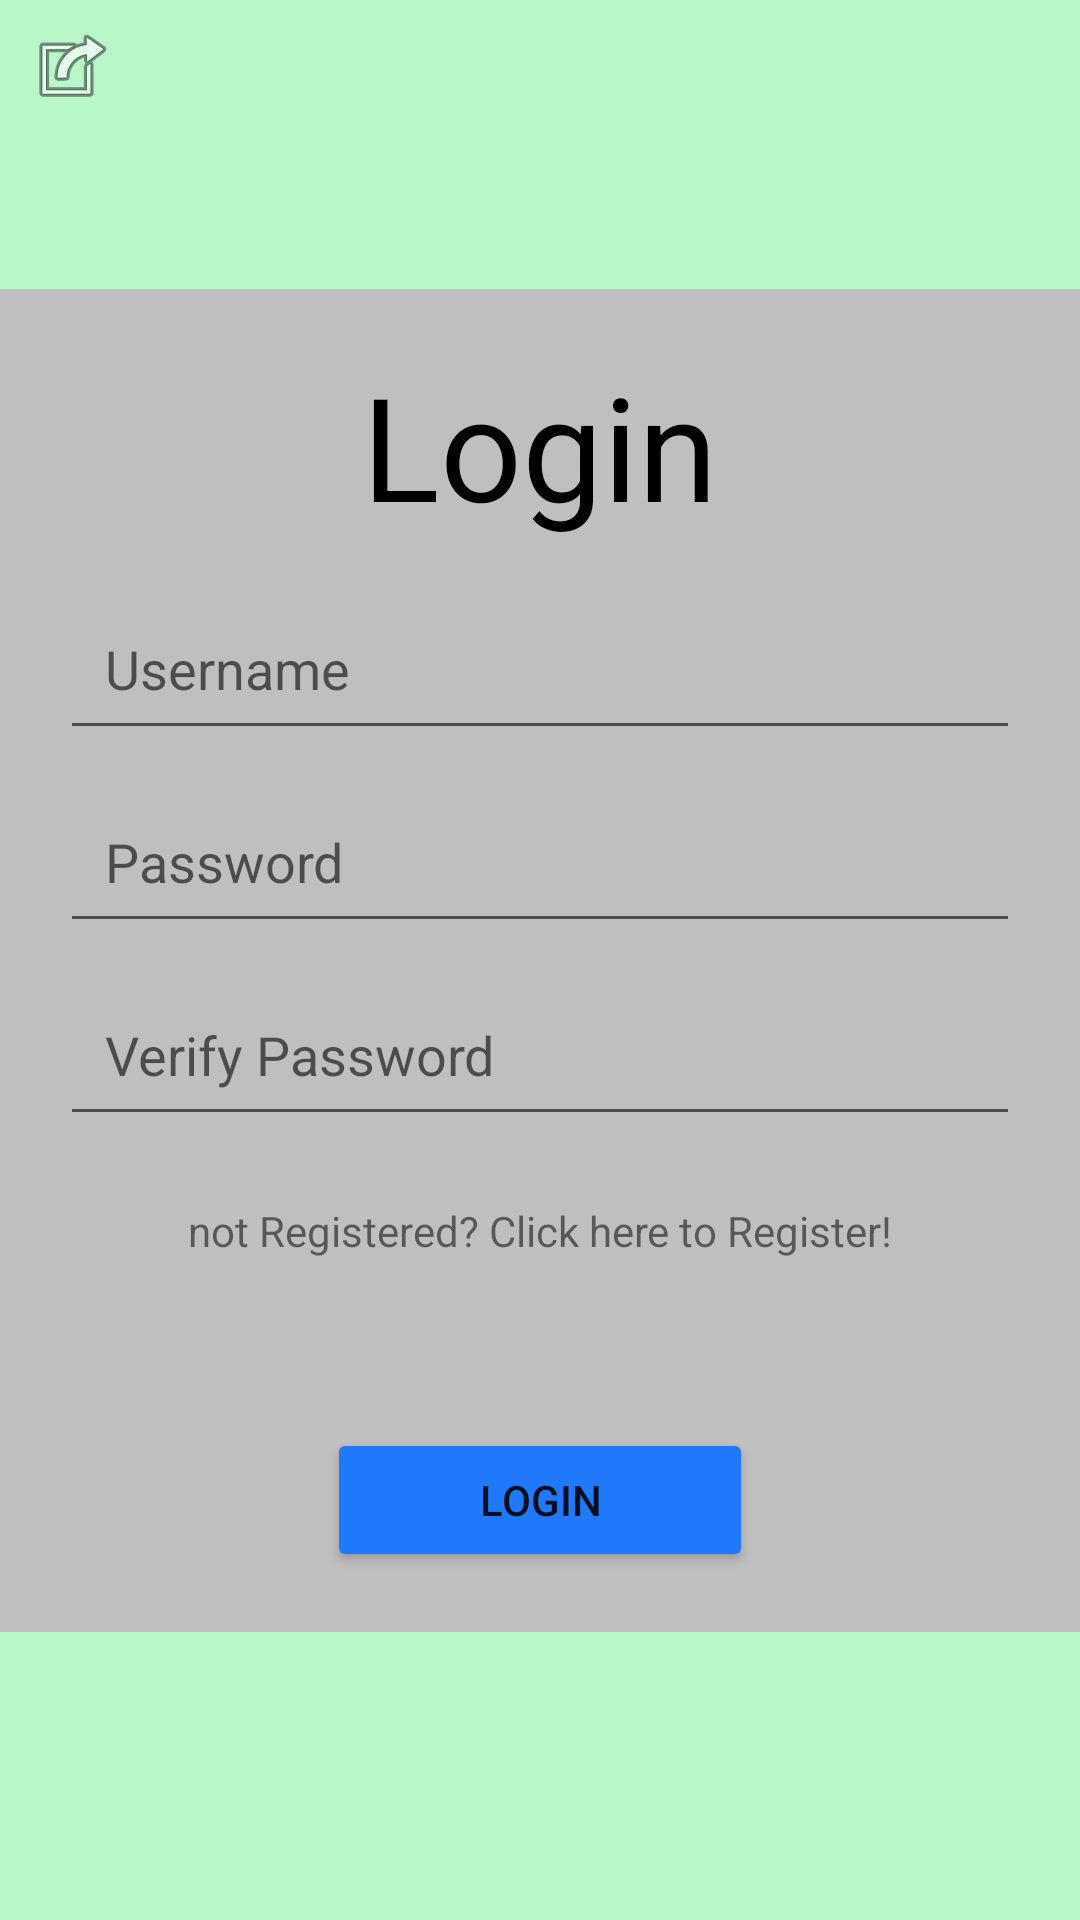

Named icons in this screenshot (1080×1920) and their bounding boxes, {"x1": x1, "y1": y1, "x2": x2, "y2": y2}:
set as: {"x1": 39, "y1": 34, "x2": 107, "y2": 97}
